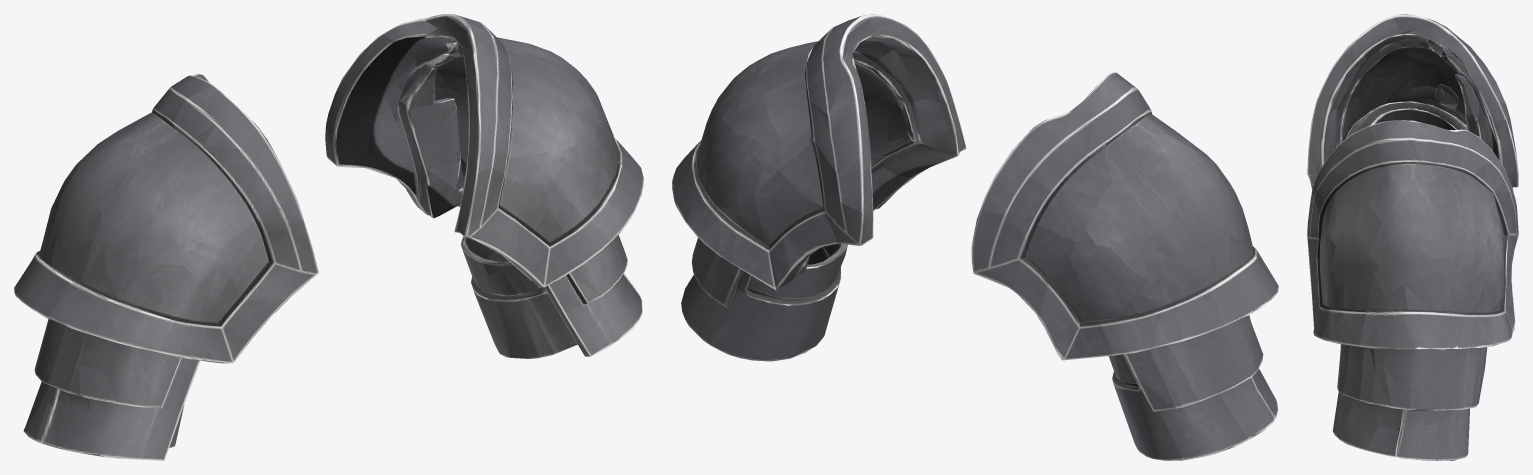
File: Meshy_AI_steel_pauldrons_prop__1105015224_texture.glb
3 views of the same model, side by side, from view 1: azimuth 30°, elevation 25°; view 2: azimuth 150°, elevation 25°; view 3: azimuth 270°, elevation 25° (orthographic). The views are drawn at different scales.
Visible parts, largest first — view 1: output_unwrapped; view 2: output_unwrapped; view 3: output_unwrapped.
Part boxes in pixels (x1,y1,x2,y2): output_unwrapped: (14, 14, 643, 460); output_unwrapped: (672, 14, 1278, 460); output_unwrapped: (1307, 14, 1518, 460).
Bounding box in the file's own units: 1.9 × 1.06 × 0.6817.
1 material, 1 textured.
